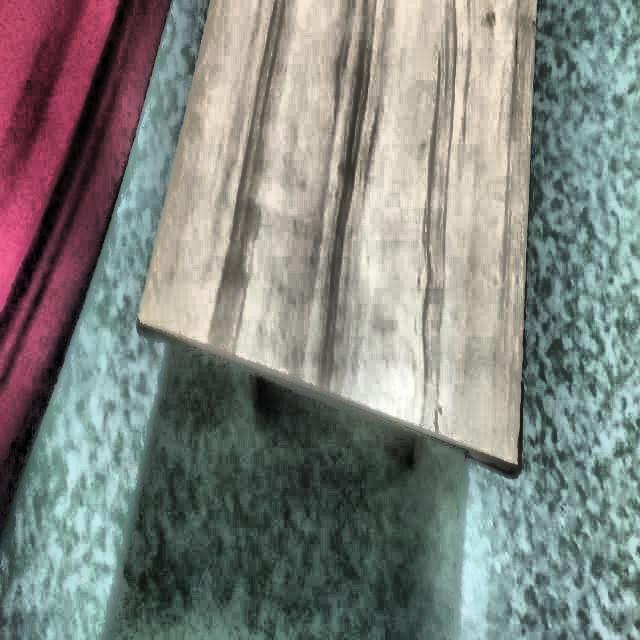mesa: (138, 0, 542, 496)
